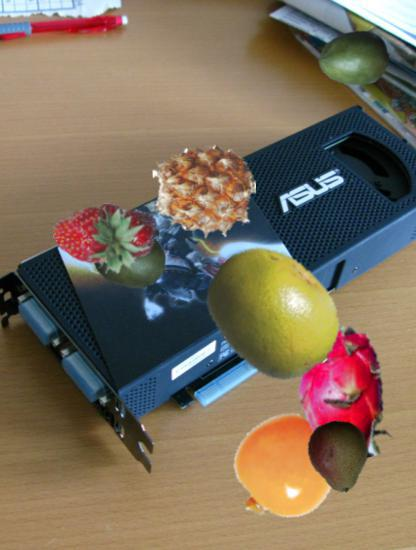Mango: (93, 221, 168, 296), (318, 22, 389, 93)
Pear: (303, 421, 375, 493)
Physalis: (227, 417, 336, 526)
Pineapple: (153, 140, 256, 243)
Pitahaya: (275, 326, 412, 463)
Pomelo: (203, 242, 345, 384)
Strawberry: (53, 186, 160, 293)
